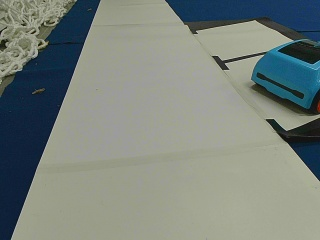car: (251, 37, 318, 113)
